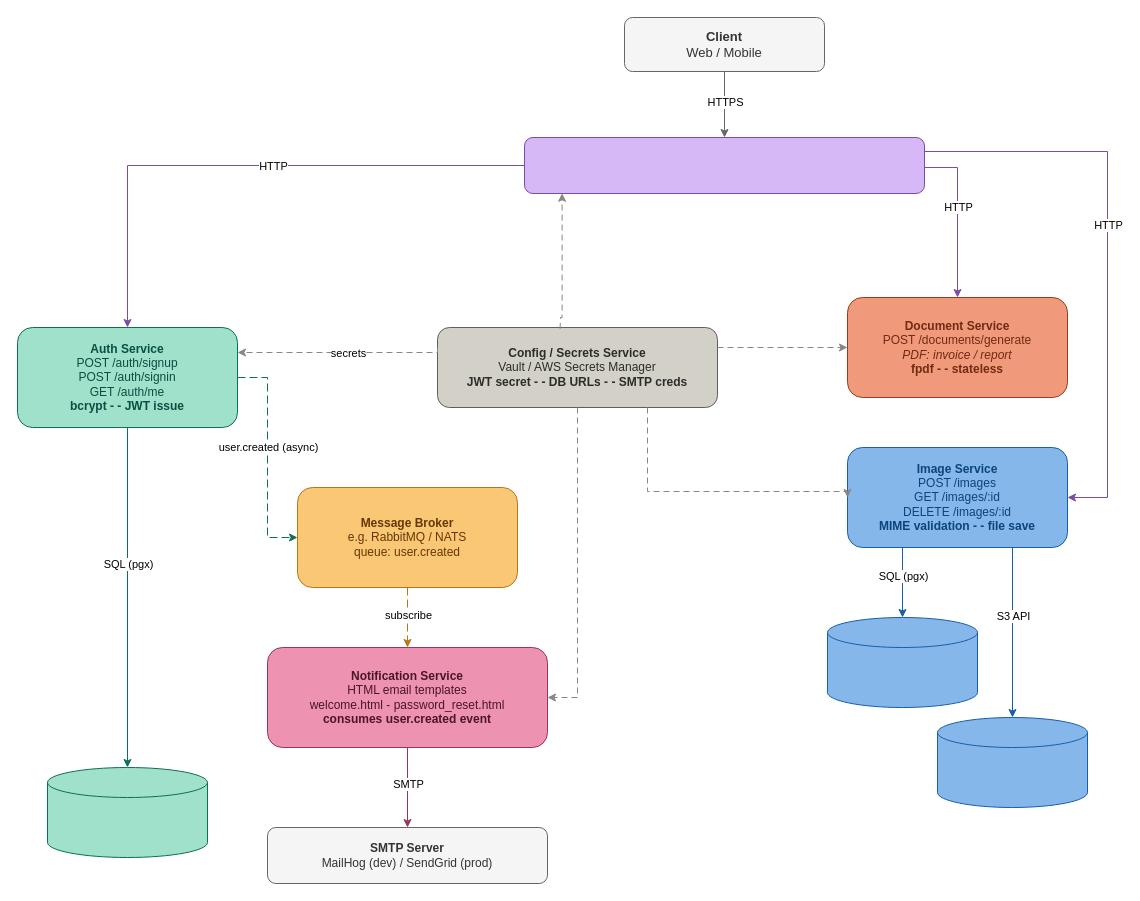
Image size: 1140x901. Some labels were removed from this diagram. Each missing label, with the centre of its shape:
"API Gateway Routing - - Rate limiting - - JWT verify" goes at point 724,165.
"Images DB PostgreSQL table: images" goes at point 902,662.
"Object Storage S3 / LocalStack (dev) binary image files" goes at point 1012,762.
"Users DB PostgreSQL table: users" goes at point 127,812.
